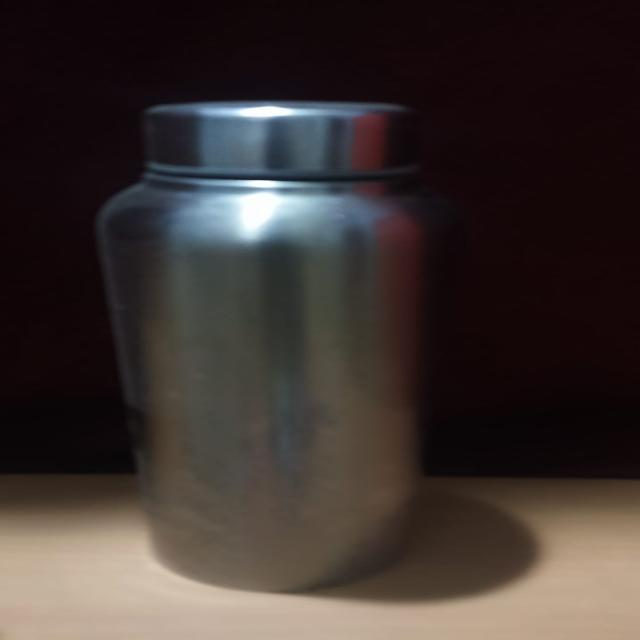bottle: (90, 86, 462, 600)
